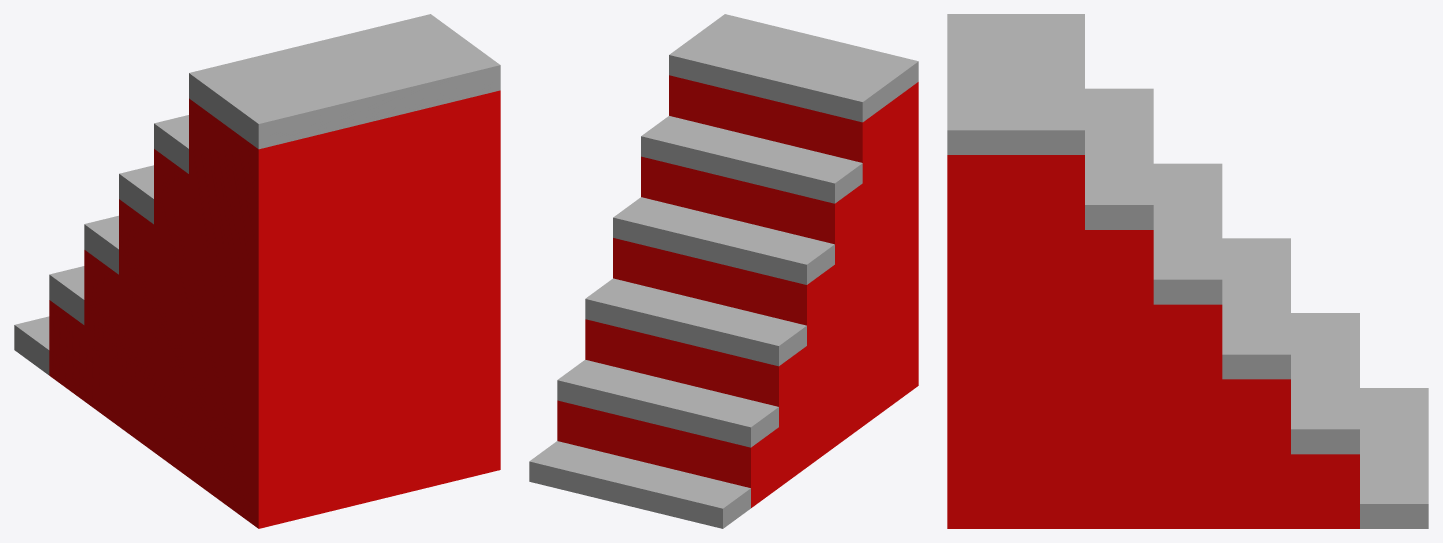
The model's file is Fortress Ramp.fbx.
The picture shows the model from 3 angles, left to right: view 1: azimuth 30°, elevation 25°; view 2: azimuth 150°, elevation 25°; view 3: azimuth 270°, elevation 25°; orthographic projection. The views are drawn at different scales.
Parts seen in each view (by area): view 1: Fortress Ramp; view 2: Fortress Ramp; view 3: Fortress Ramp.
Boxes of the visible parts, bbox=[...] form: Fortress Ramp: bbox=[14, 14, 500, 528]; Fortress Ramp: bbox=[529, 14, 918, 528]; Fortress Ramp: bbox=[947, 14, 1428, 528].
Size of what is drawn, in the model's own units: 200 by 320 by 350.
